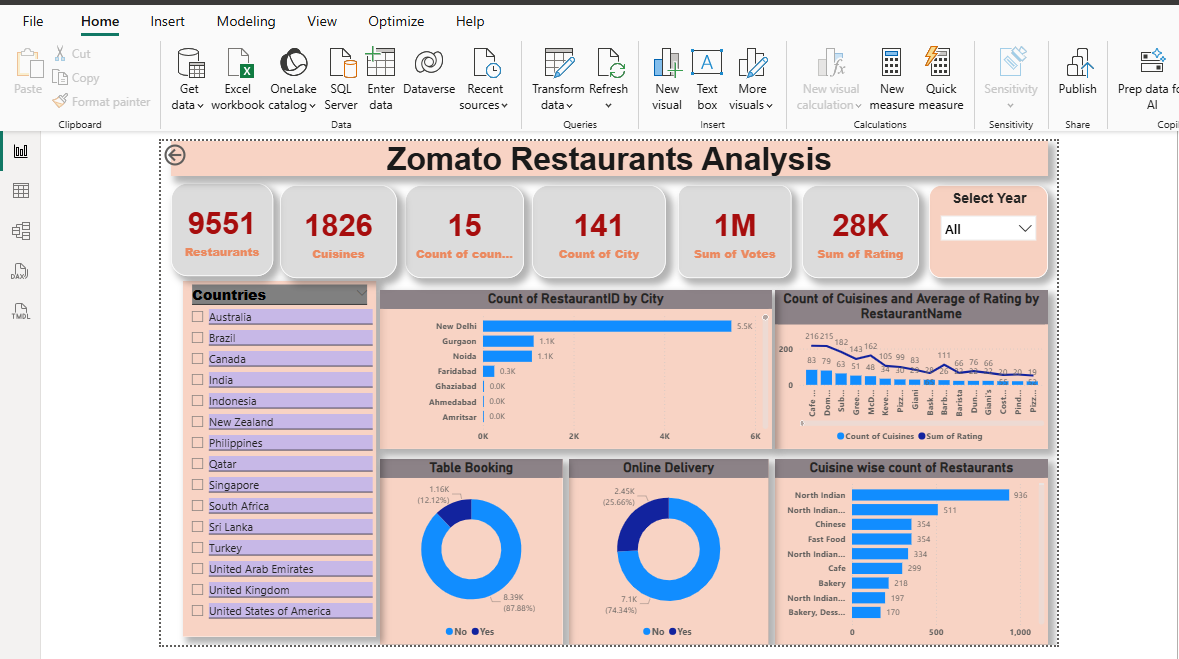

The page's visual inventory and layout, read from the dashboard file:
{"tool":"powerbi","page":{"name":"Page 1","canvas":[1280,720],"ordinal":0},"visuals":[{"type":"lineStackedColumnComboChart","title":"Count of Cuisines and Average of Rating by RestaurantName","fields":{"Category":["consinedata.RestaurantName"],"Y":["CountNonNull(consinedata.Cuisines)"],"Y2":["Sum(consinedata.Rating)"]},"box":[876.6,212.3,389.8,227.5],"z":0},{"type":"clusteredBarChart","title":"Cuisine wise count of Restaurants","fields":{"Category":["consinedata.Cuisines"],"Y":["CountNonNull(consinedata.Cuisines)"]},"box":[876.6,455,389.8,265.4],"z":1000},{"type":"donutChart","title":"Online Delivery","fields":{"Category":["Sheet1.Has_Online_delivery"],"Y":["CountNonNull(Sheet1.Has_Online_delivery)"]},"box":[582.4,454.6,285.1,265.4],"z":2000},{"type":"donutChart","title":"Table Booking","fields":{"Category":["Sheet1.Has_Table_booking"],"Y":["CountNonNull(Sheet1.Has_Table_booking)"]},"box":[312.4,454.6,260.9,265.4],"z":3000},{"type":"slicer","fields":{"Values":["Sheet2.country name"]},"box":[31.8,200.2,276,508.1],"z":4000},{"type":"clusteredBarChart","fields":{"Category":["consinedata.City"],"Y":["CountNonNull(consinedata.RestaurantID)"]},"box":[312.4,212.3,559.6,227.5],"z":5000},{"type":"card","fields":{"Values":["CountNonNull(Sheet1.RestaurantID)"]},"box":[13.6,60.7,145.6,133.5],"z":6000},{"type":"card","fields":{"Values":["Count(Sheet2.country name)"]},"box":[349,62.2,169.9,133.5],"z":7000},{"type":"card","fields":{"Values":["Sum(Sheet1.Votes)"]},"box":[738.6,62.2,162.3,133.5],"z":8000},{"type":"card","fields":{"Values":["Count(Sheet1.City)"]},"box":[529.3,62.2,191.1,133.5],"z":9000},{"type":"card","fields":{"Values":["Count(Sheet1.Cuisines)"]},"box":[169.9,62.2,166.8,133.5],"z":10000},{"type":"card","fields":{"Values":["Sum(consinedata.Rating)"]},"box":[916,62.2,166.8,133.5],"z":11000},{"type":"slicer","title":"Select Year","fields":{"Values":["consinedata.new datekey.Variation.Date Hierarchy.Year","consinedata.new datekey.Variation.Date Hierarchy.Quarter","consinedata.new datekey.Variation.Date Hierarchy.Month","consinedata.new datekey.Variation.Date Hierarchy.Day"]},"box":[1096.5,62.2,169.9,133.5],"z":12000},{"type":"textbox","title":"Zomato Restaurants Analysis","box":[13.6,0,1252.7,50],"z":13000},{"type":"actionButton","box":[0,0,100,40],"z":14000}]}

Visuals, with their boxes on the page's 1280x720 design canvas (x1, y1, x2, y2). These are canvas units, not pixel positions in the 1179x659 screenshot, which may show the page scaled, cropped or inside an application window:
"Count of Cuisines and Average of Rating by RestaurantName" lineStackedColumnComboChart: {"x1": 877, "y1": 212, "x2": 1266, "y2": 440}
"Cuisine wise count of Restaurants" clusteredBarChart: {"x1": 877, "y1": 455, "x2": 1266, "y2": 720}
"Online Delivery" donutChart: {"x1": 582, "y1": 455, "x2": 868, "y2": 720}
"Table Booking" donutChart: {"x1": 312, "y1": 455, "x2": 573, "y2": 720}
slicer - Sheet2.country name: {"x1": 32, "y1": 200, "x2": 308, "y2": 708}
clusteredBarChart - consinedata.City x CountNonNull(consinedata.RestaurantID): {"x1": 312, "y1": 212, "x2": 872, "y2": 440}
card - CountNonNull(Sheet1.RestaurantID): {"x1": 14, "y1": 61, "x2": 159, "y2": 194}
card - Count(Sheet2.country name): {"x1": 349, "y1": 62, "x2": 519, "y2": 196}
card - Sum(Sheet1.Votes): {"x1": 739, "y1": 62, "x2": 901, "y2": 196}
card - Count(Sheet1.City): {"x1": 529, "y1": 62, "x2": 720, "y2": 196}
card - Count(Sheet1.Cuisines): {"x1": 170, "y1": 62, "x2": 337, "y2": 196}
card - Sum(consinedata.Rating): {"x1": 916, "y1": 62, "x2": 1083, "y2": 196}
"Select Year" slicer: {"x1": 1096, "y1": 62, "x2": 1266, "y2": 196}
"Zomato Restaurants Analysis" textbox: {"x1": 14, "y1": 0, "x2": 1266, "y2": 50}
actionButton: {"x1": 0, "y1": 0, "x2": 100, "y2": 40}
